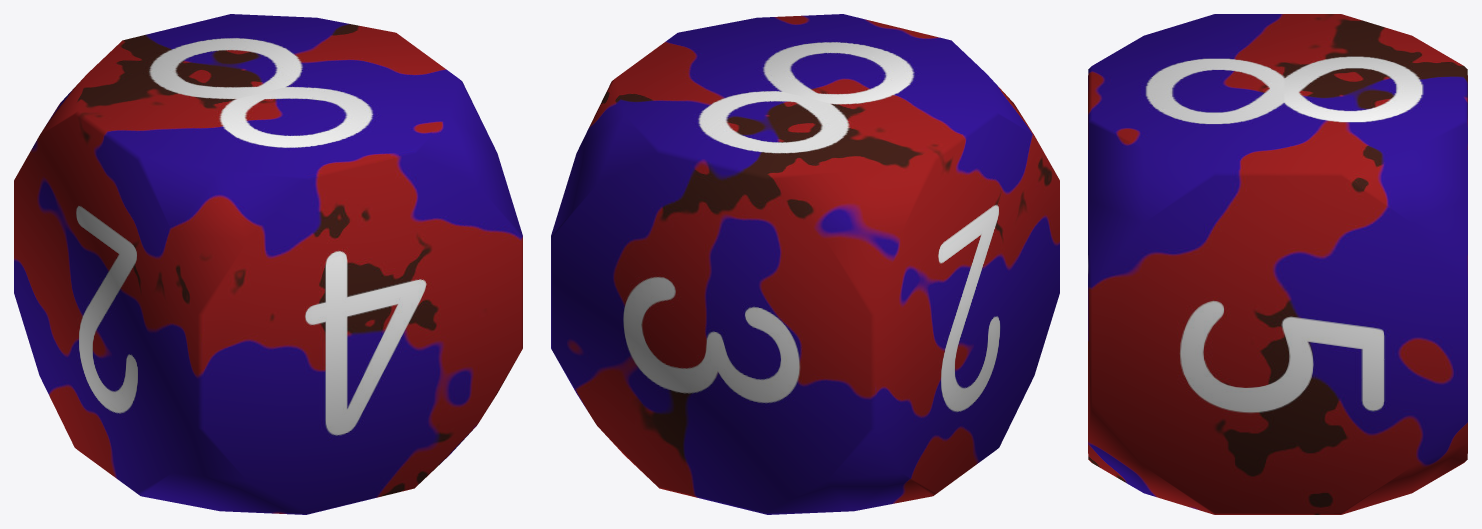
File: torg-d6.glb
3 renders of one model, left to right at view 1: azimuth 30°, elevation 25°; view 2: azimuth 150°, elevation 25°; view 3: azimuth 270°, elevation 25°, orthographic.
Parts seen in each view (by area): view 1: d6Final; view 2: d6Final; view 3: d6Final.
Boxes of the visible parts, bbox=[...] form: d6Final: bbox=[14, 14, 522, 514]; d6Final: bbox=[551, 14, 1059, 514]; d6Final: bbox=[1088, 14, 1467, 514].
Bounding box in the file's own units: 104 × 104 × 104.
1 material, 1 textured.
